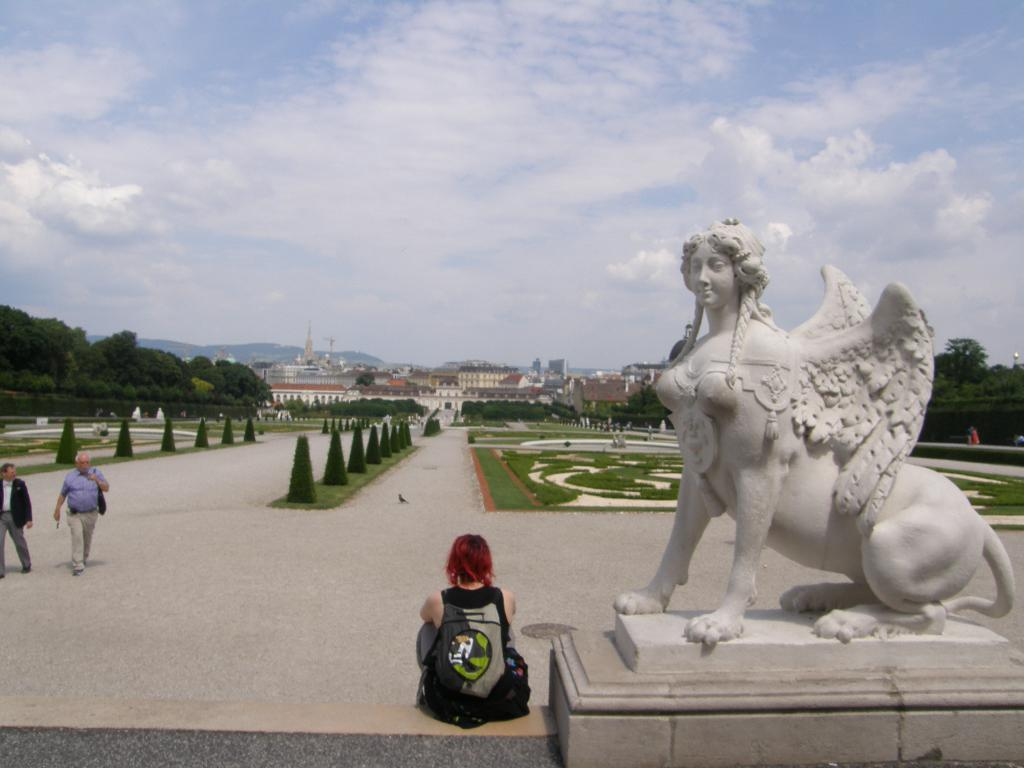Animal: (608, 401, 1018, 645)
